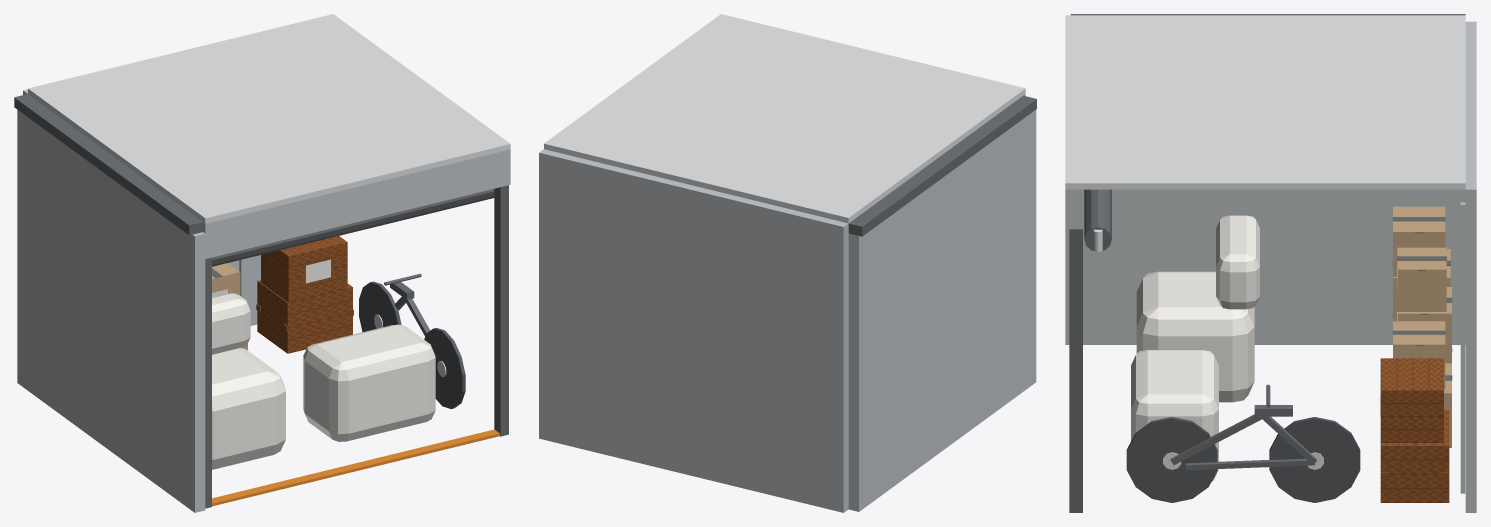
Rendered from self-storage-facility-and-loading-bay-self-storage-fac-3f7bd776__34695.glb.
3 views of the same model, side by side, from view 1: azimuth 30°, elevation 25°; view 2: azimuth 150°, elevation 25°; view 3: azimuth 270°, elevation 25° (orthographic). The views are drawn at different scales.
Visible parts, largest first — view 1: self-storage-facility-and-loading-bay-storage-unit-open; view 2: self-storage-facility-and-loading-bay-storage-unit-open; view 3: self-storage-facility-and-loading-bay-storage-unit-open.
Part boxes in pixels (x1,y1,x2,y2): self-storage-facility-and-loading-bay-storage-unit-open: (14, 14, 510, 512); self-storage-facility-and-loading-bay-storage-unit-open: (539, 14, 1036, 512); self-storage-facility-and-loading-bay-storage-unit-open: (1065, 14, 1476, 512).
Size of the model in its own units: 3.04 by 2.65 by 3.
8 materials, 1 textured.
